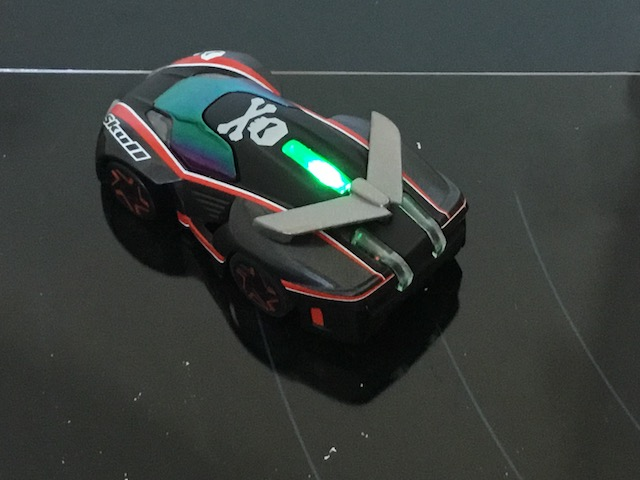car-red: (93, 44, 472, 351)
